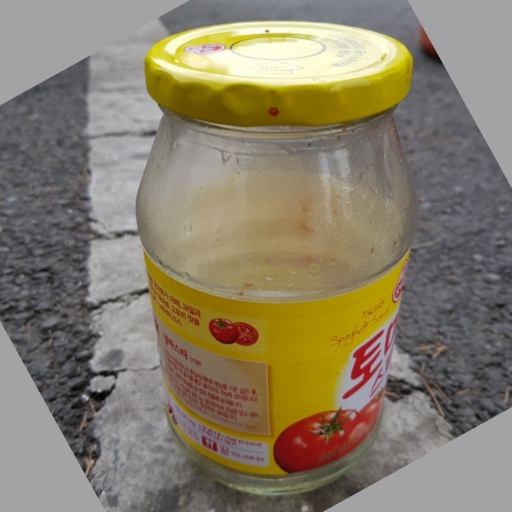Glass_5: (131, 21, 413, 498)
